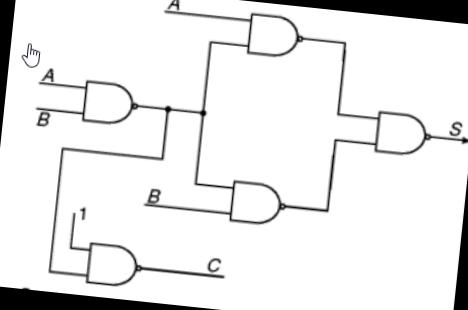and: (241, 5, 309, 65)
nand: (71, 69, 146, 139), (363, 103, 438, 171), (218, 174, 295, 234), (74, 236, 146, 298)
